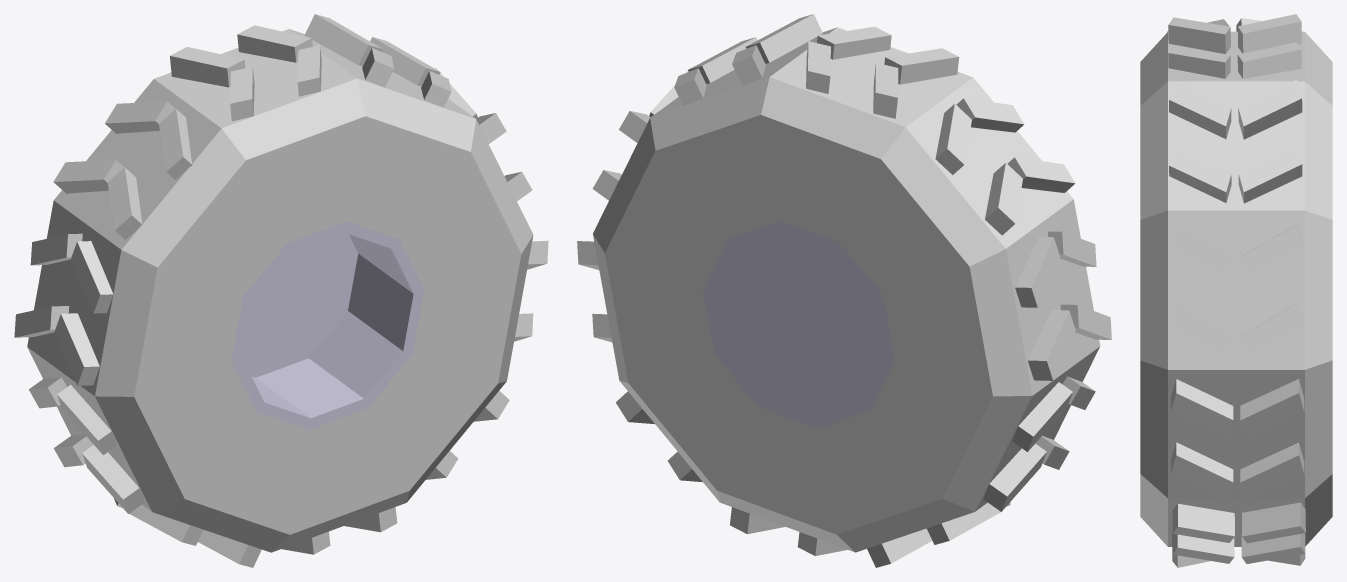
The model's file is Wheel Snow.fbx.
3 renders of one model, left to right at view 1: azimuth 30°, elevation 25°; view 2: azimuth 150°, elevation 25°; view 3: azimuth 270°, elevation 25°, orthographic.
Parts seen in each view (by area): view 1: Monster Truck wheel front right; view 2: Monster Truck wheel front right; view 3: Monster Truck wheel front right.
Part boxes in pixels (x1,y1,x2,y2): Monster Truck wheel front right: (14, 14, 548, 567); Monster Truck wheel front right: (577, 14, 1111, 567); Monster Truck wheel front right: (1140, 14, 1332, 567).
Size of the model in its own units: 0.8024 by 0.2784 by 0.7854.
